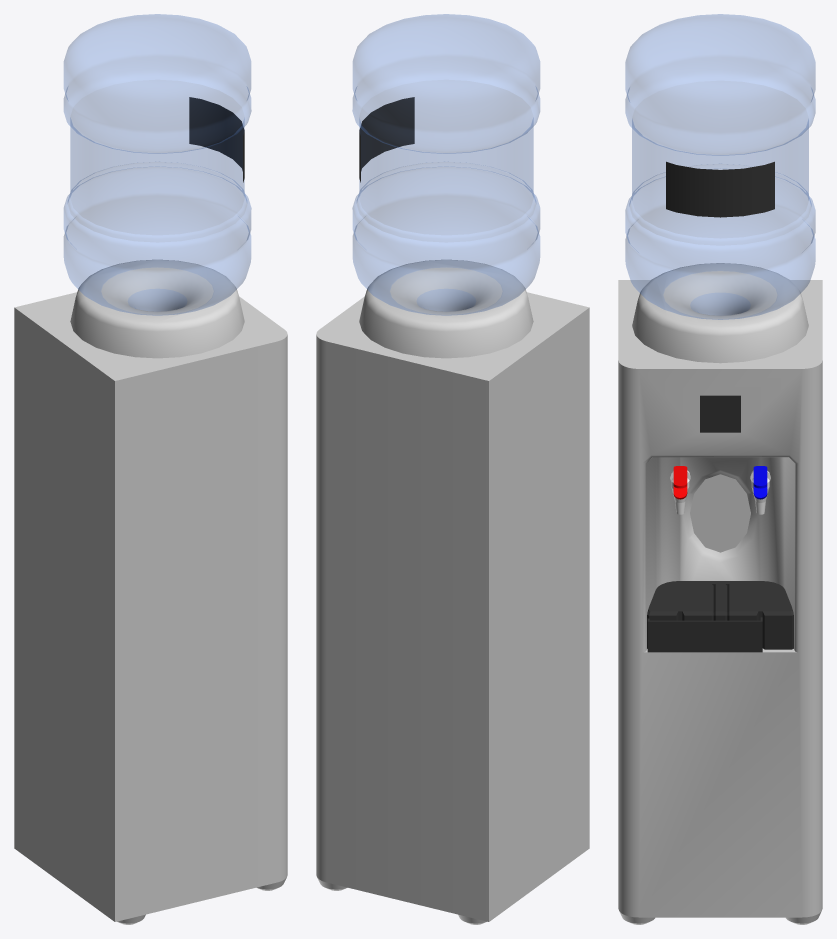
Rendered from WaterDispenser.fbx.
The picture shows the model from 3 angles, left to right: view 1: azimuth 30°, elevation 25°; view 2: azimuth 150°, elevation 25°; view 3: azimuth 270°, elevation 25°; orthographic projection.
Parts seen in each view (by area): view 1: Water_dispenser_Box, Water_dispenser_Bottle; view 2: Water_dispenser_Box, Water_dispenser_Bottle; view 3: Water_dispenser_Box, Water_dispenser_Bottle, Water_dispenser_02, Water_dispenser_03, Model.
Part boxes in pixels (x1,y1,x2,y2): Water_dispenser_Box: [14, 259, 287, 921]; Water_dispenser_Bottle: [64, 14, 251, 315]; Water_dispenser_Box: [316, 259, 589, 921]; Water_dispenser_Bottle: [352, 14, 539, 315]; Water_dispenser_Box: [618, 263, 822, 917]; Water_dispenser_Bottle: [625, 14, 815, 319]; Water_dispenser_02: [647, 581, 793, 649]; Water_dispenser_03: [647, 617, 762, 652]; Model: [619, 911, 821, 924].
Size of the model in its own units: 312 by 1360 by 300.
